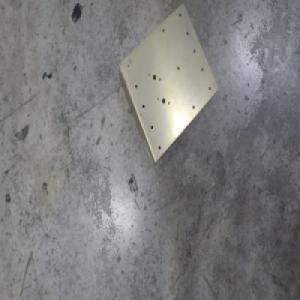MetalSheet: (116, 2, 218, 167)
